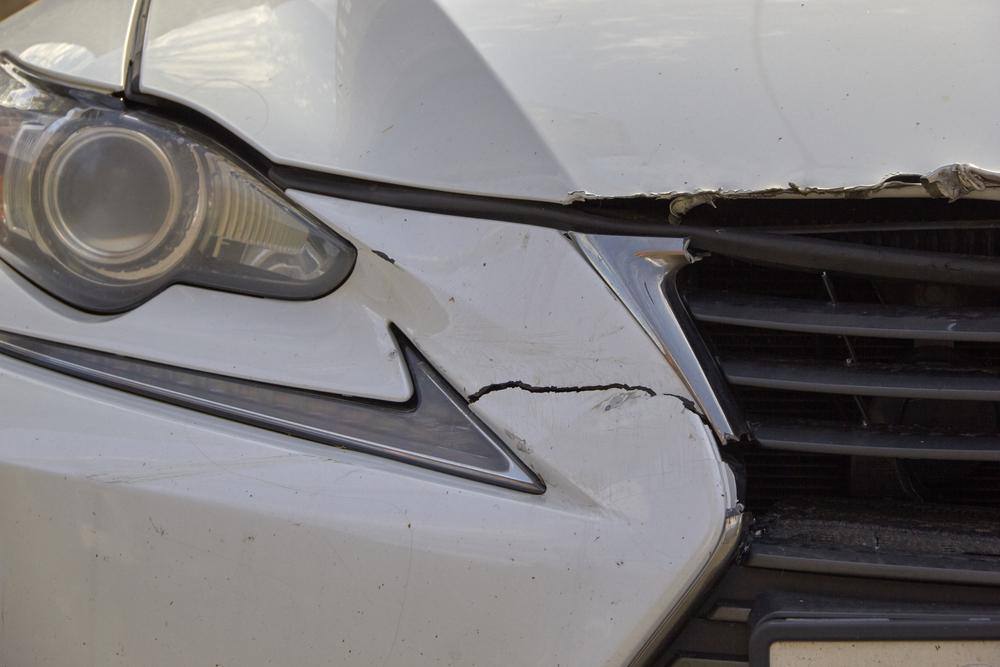crack: (464, 381, 708, 422)
